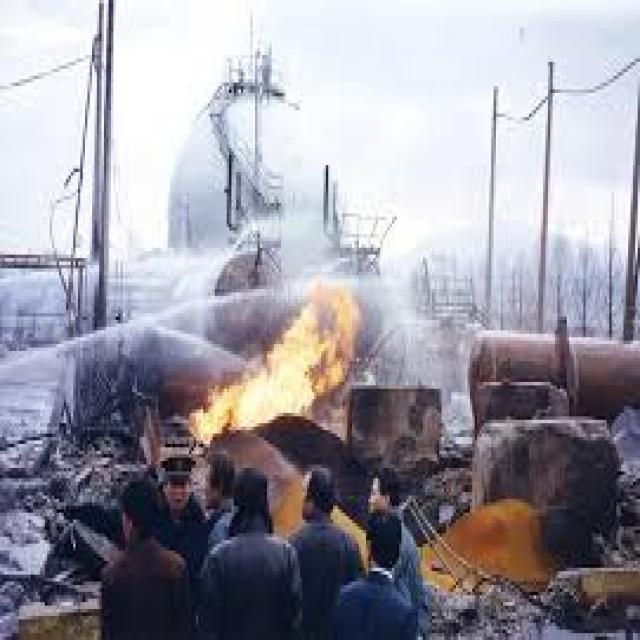explosion: (93, 148, 441, 515)
